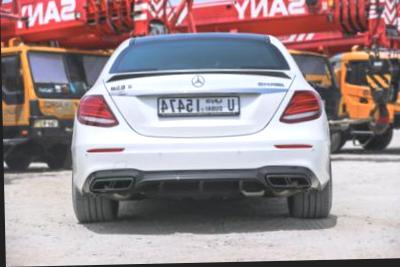License_Plate: (158, 98, 240, 115)
